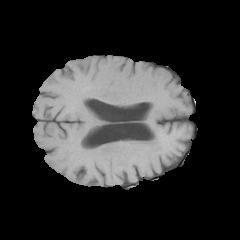glioma: (80, 136, 165, 169)
